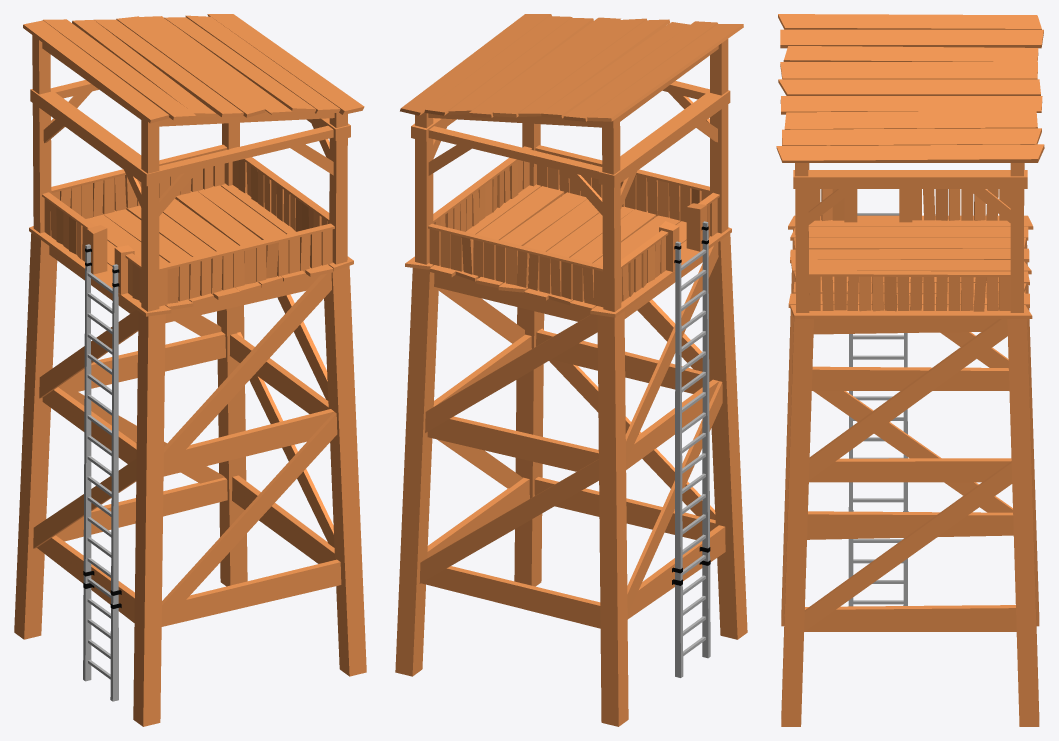
File: Surveillance.fbx
3 renders of one model, left to right at view 1: azimuth 30°, elevation 25°; view 2: azimuth 150°, elevation 25°; view 3: azimuth 270°, elevation 25°, orthographic.
Parts seen in each view (by area): view 1: Tower, Ladder; view 2: Tower, Ladder; view 3: Tower, Ladder.
Part boxes in pixels (left/top/right/bottom): Tower: left=14, top=14, right=366, bottom=726; Ladder: left=83, top=244, right=121, bottom=701; Tower: left=395, top=14, right=747, bottom=726; Ladder: left=672, top=221, right=710, bottom=677; Tower: left=776, top=14, right=1044, bottom=726; Ladder: left=848, top=213, right=908, bottom=606.
Bounding box in the file's own units: 520 × 1349 × 540.
